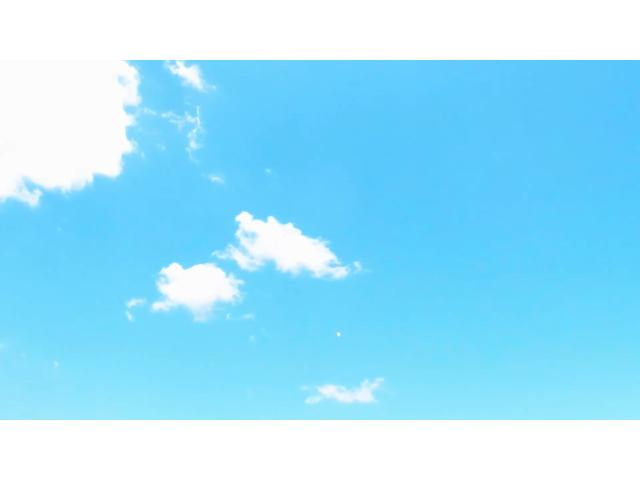Anti-Drone: (334, 330, 348, 340)
